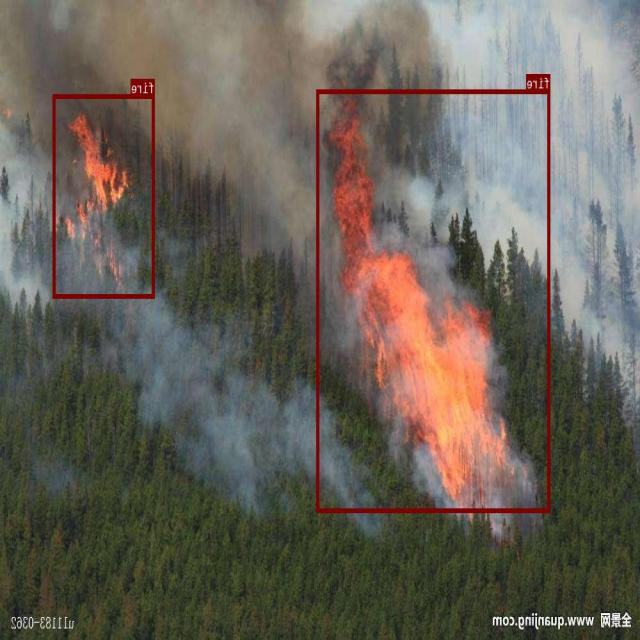fire: (317, 89, 551, 512), (54, 93, 155, 297)
